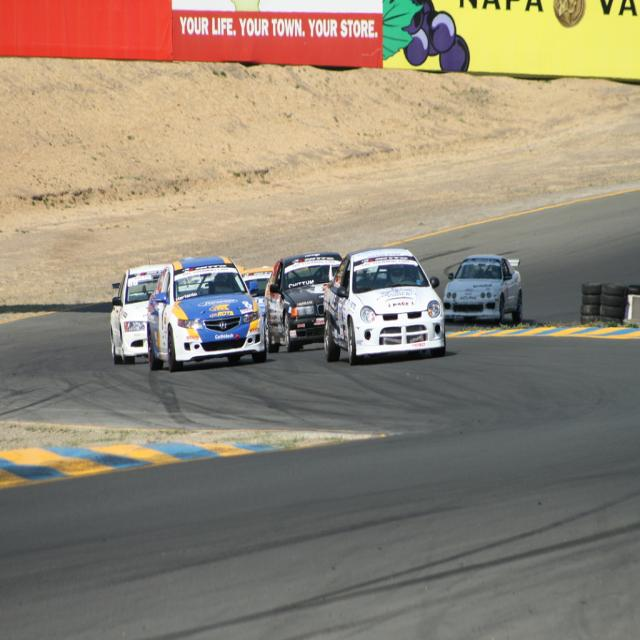car: (322, 241, 453, 361), (141, 256, 266, 371)
